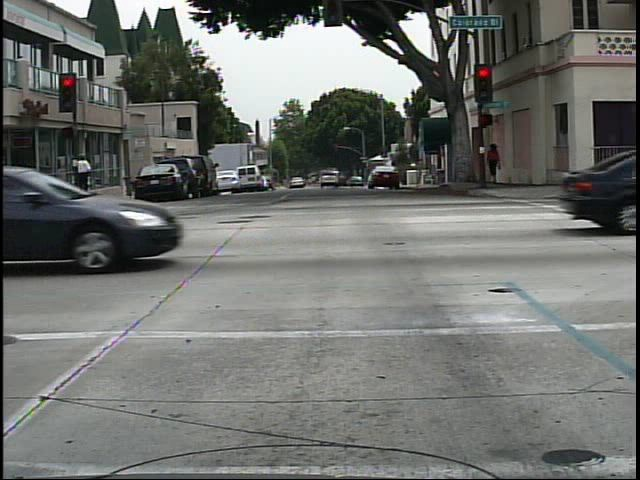person: (70, 147, 99, 209), (487, 138, 509, 191)
